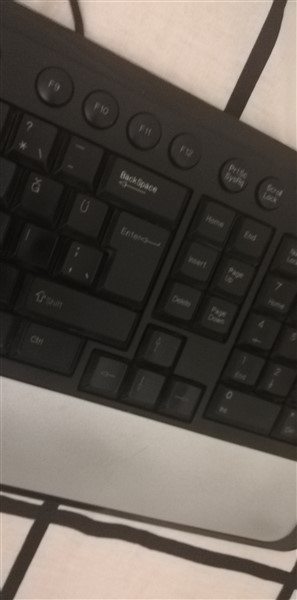klavye: (1, 30, 296, 553)
